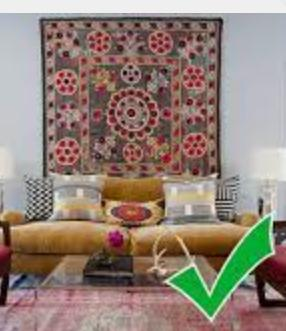carpet: (40, 18, 220, 176)
